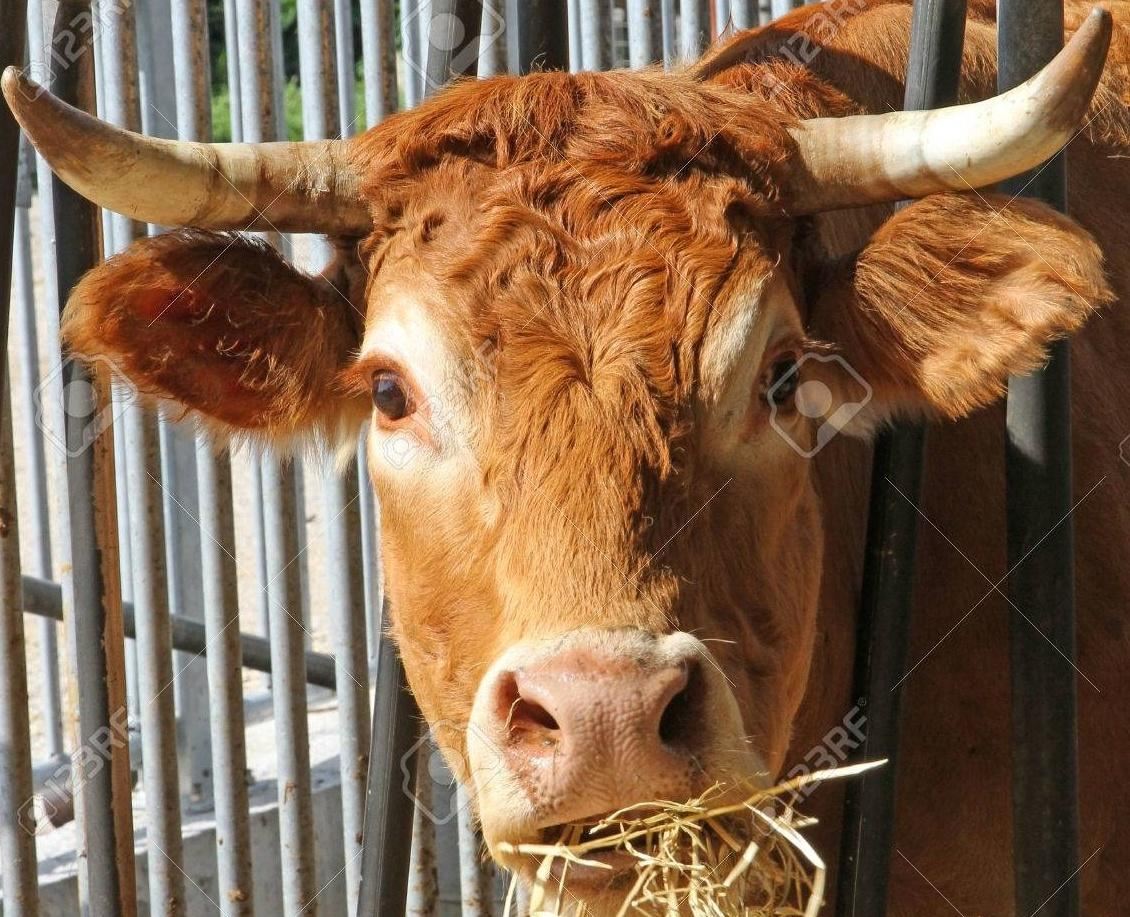muzzles: (446, 637, 778, 857)
